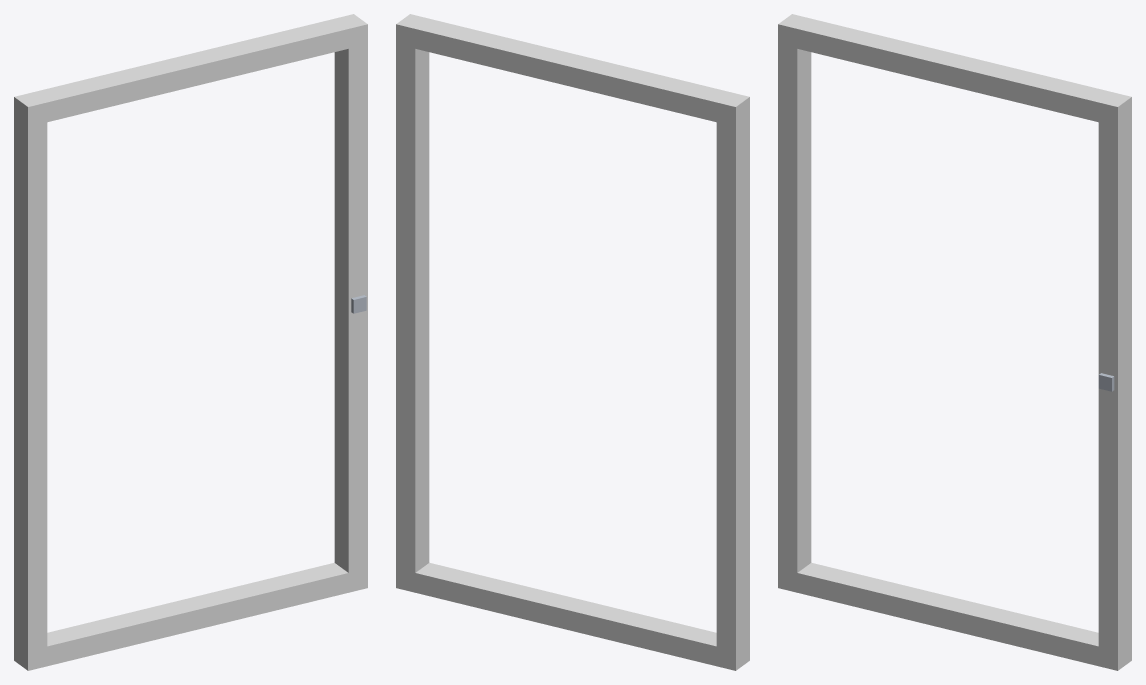
The model's file is Window5_01_3.fbx.
3 renders of one model, left to right at view 1: azimuth 30°, elevation 25°; view 2: azimuth 150°, elevation 25°; view 3: azimuth 330°, elevation 25°, orthographic.
Visible parts, largest first — view 1: Window5_01_3; view 2: Window5_01_3; view 3: Window5_01_3.
Part boxes in pixels (box(x1,y1,x2,y2)): Window5_01_3: box(14, 14, 367, 670); Window5_01_3: box(396, 14, 749, 670); Window5_01_3: box(778, 14, 1131, 670).
Size of the model in its own units: 71.67 by 114 by 6.
